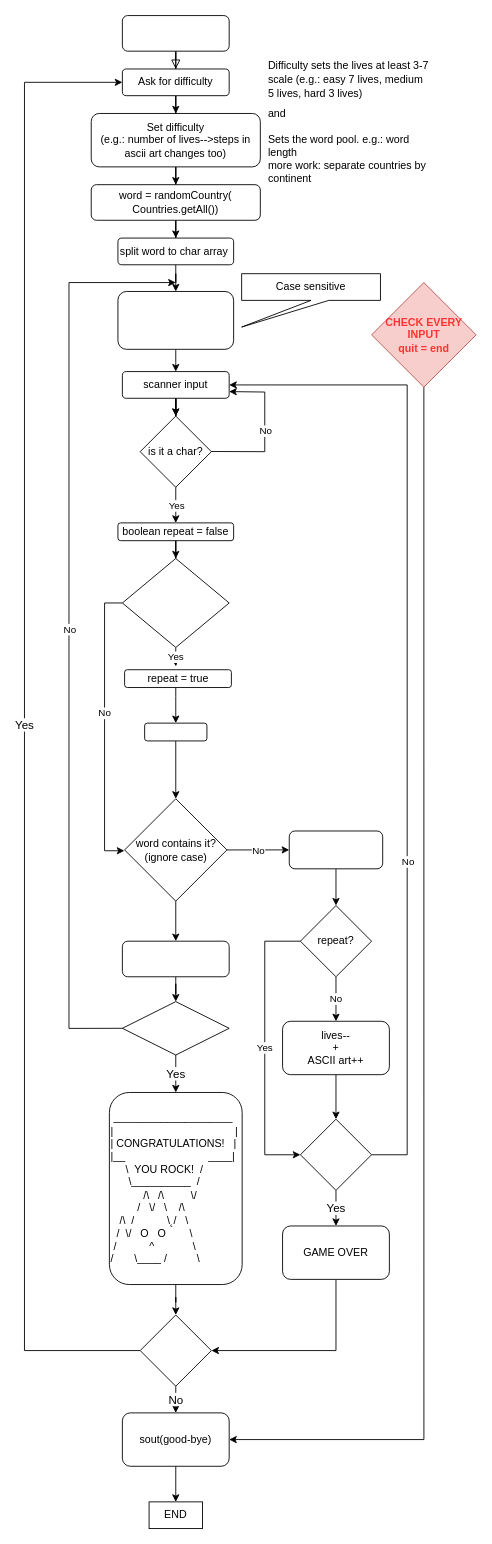
Some shapes in this 492 by 1544 pixel diagram are drawn without their labels. Each missing label, with the box of its shape:
Display wordstate initial: _ _ _ _ _ half solved: C _ _ _ _ ...: (117, 291, 234, 349)
lives==0?: (299, 1118, 372, 1190)
New game?: (139, 1314, 211, 1386)
Notify user: (144, 722, 207, 741)
repeated try? (ignore case): (121, 558, 229, 647)
show wrong letters: (288, 830, 383, 869)
Start: (121, 15, 229, 51)
update wordstate: (121, 940, 229, 977)
word==wordstate?: (121, 1001, 229, 1055)
